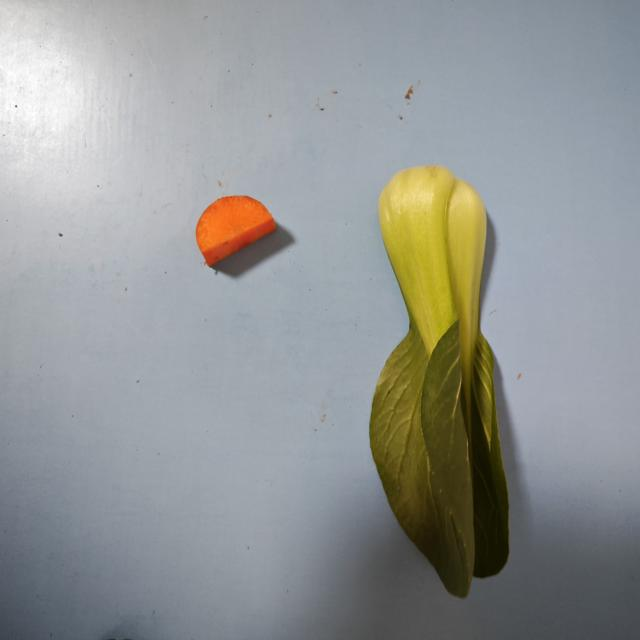-Kitchen waste - carrot-: (200, 190, 281, 270)
-Kitchen waste - vegetable roots and leaves-: (371, 160, 520, 597)
